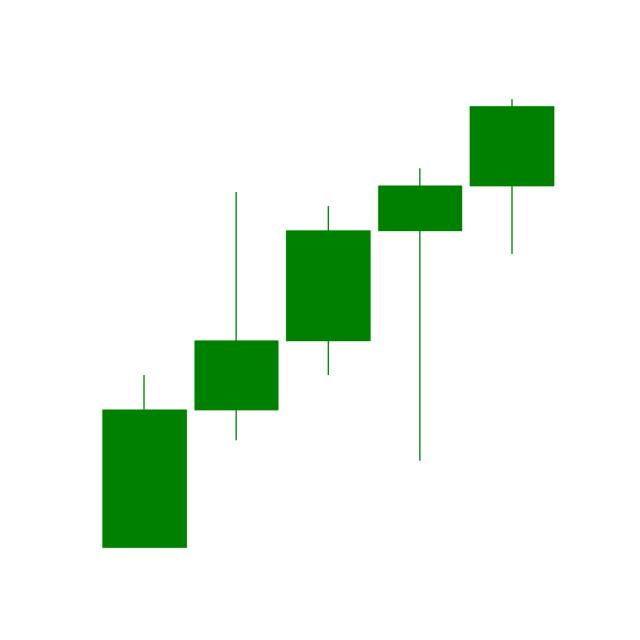Inverted Hammer: (193, 190, 279, 443)
